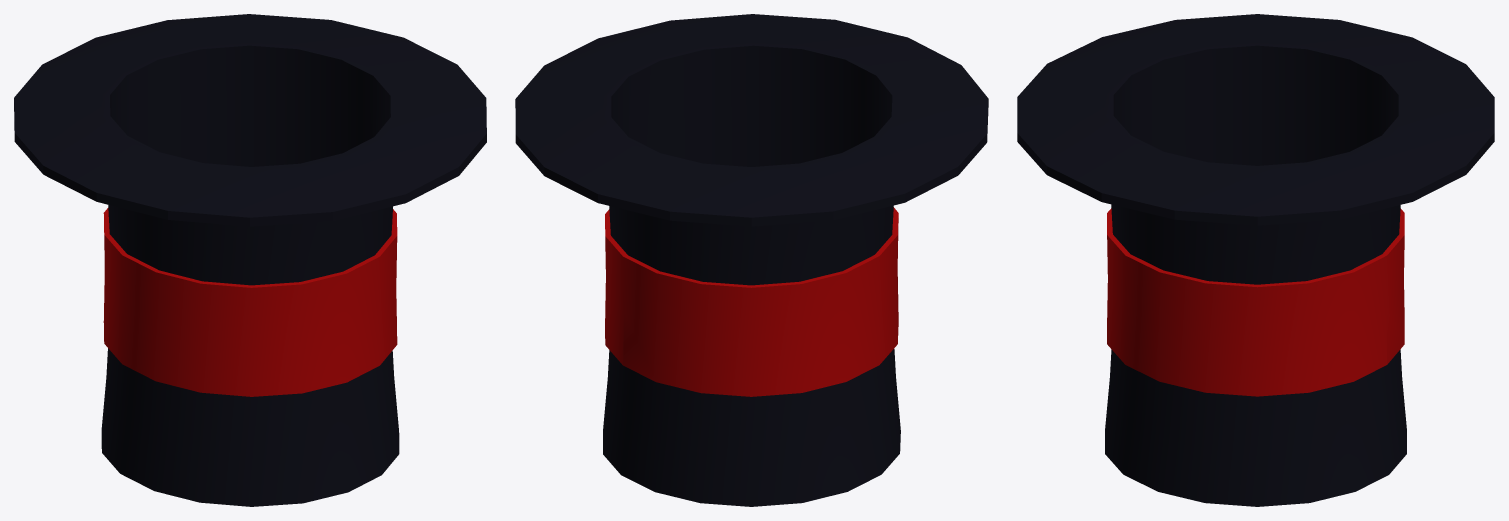
Rendered from F_RabbitHat_01.fbx.
3 renders of one model, left to right at view 1: azimuth 30°, elevation 25°; view 2: azimuth 150°, elevation 25°; view 3: azimuth 270°, elevation 25°, orthographic.
Visible parts, largest first — view 1: F_RabbitHat_01; view 2: F_RabbitHat_01; view 3: F_RabbitHat_01.
Boxes of the visible parts, x1,y1,x2,y2 form: F_RabbitHat_01: (14, 14, 486, 506); F_RabbitHat_01: (515, 14, 988, 506); F_RabbitHat_01: (1017, 14, 1494, 506).
Size of the model in its own units: 68.06 by 52.8 by 67.73.
